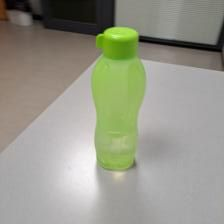bottle: (87, 22, 148, 173)
